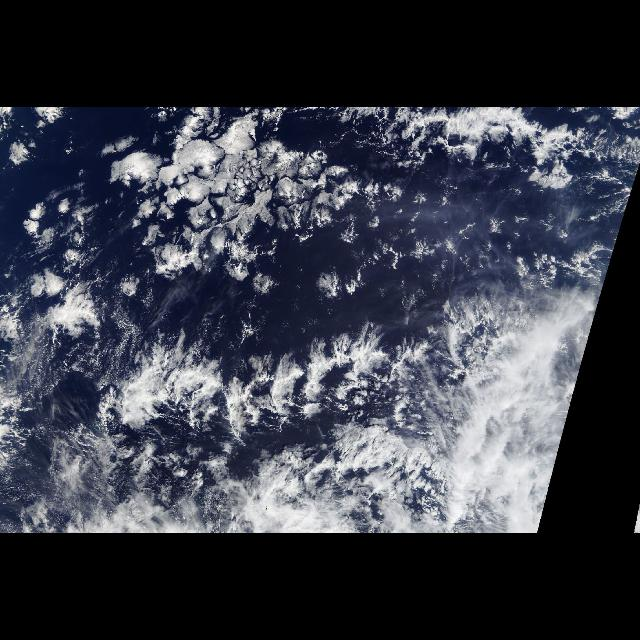Fish: (30, 274, 452, 466)
Flower: (86, 120, 366, 290)
Sugar: (6, 114, 436, 330)
